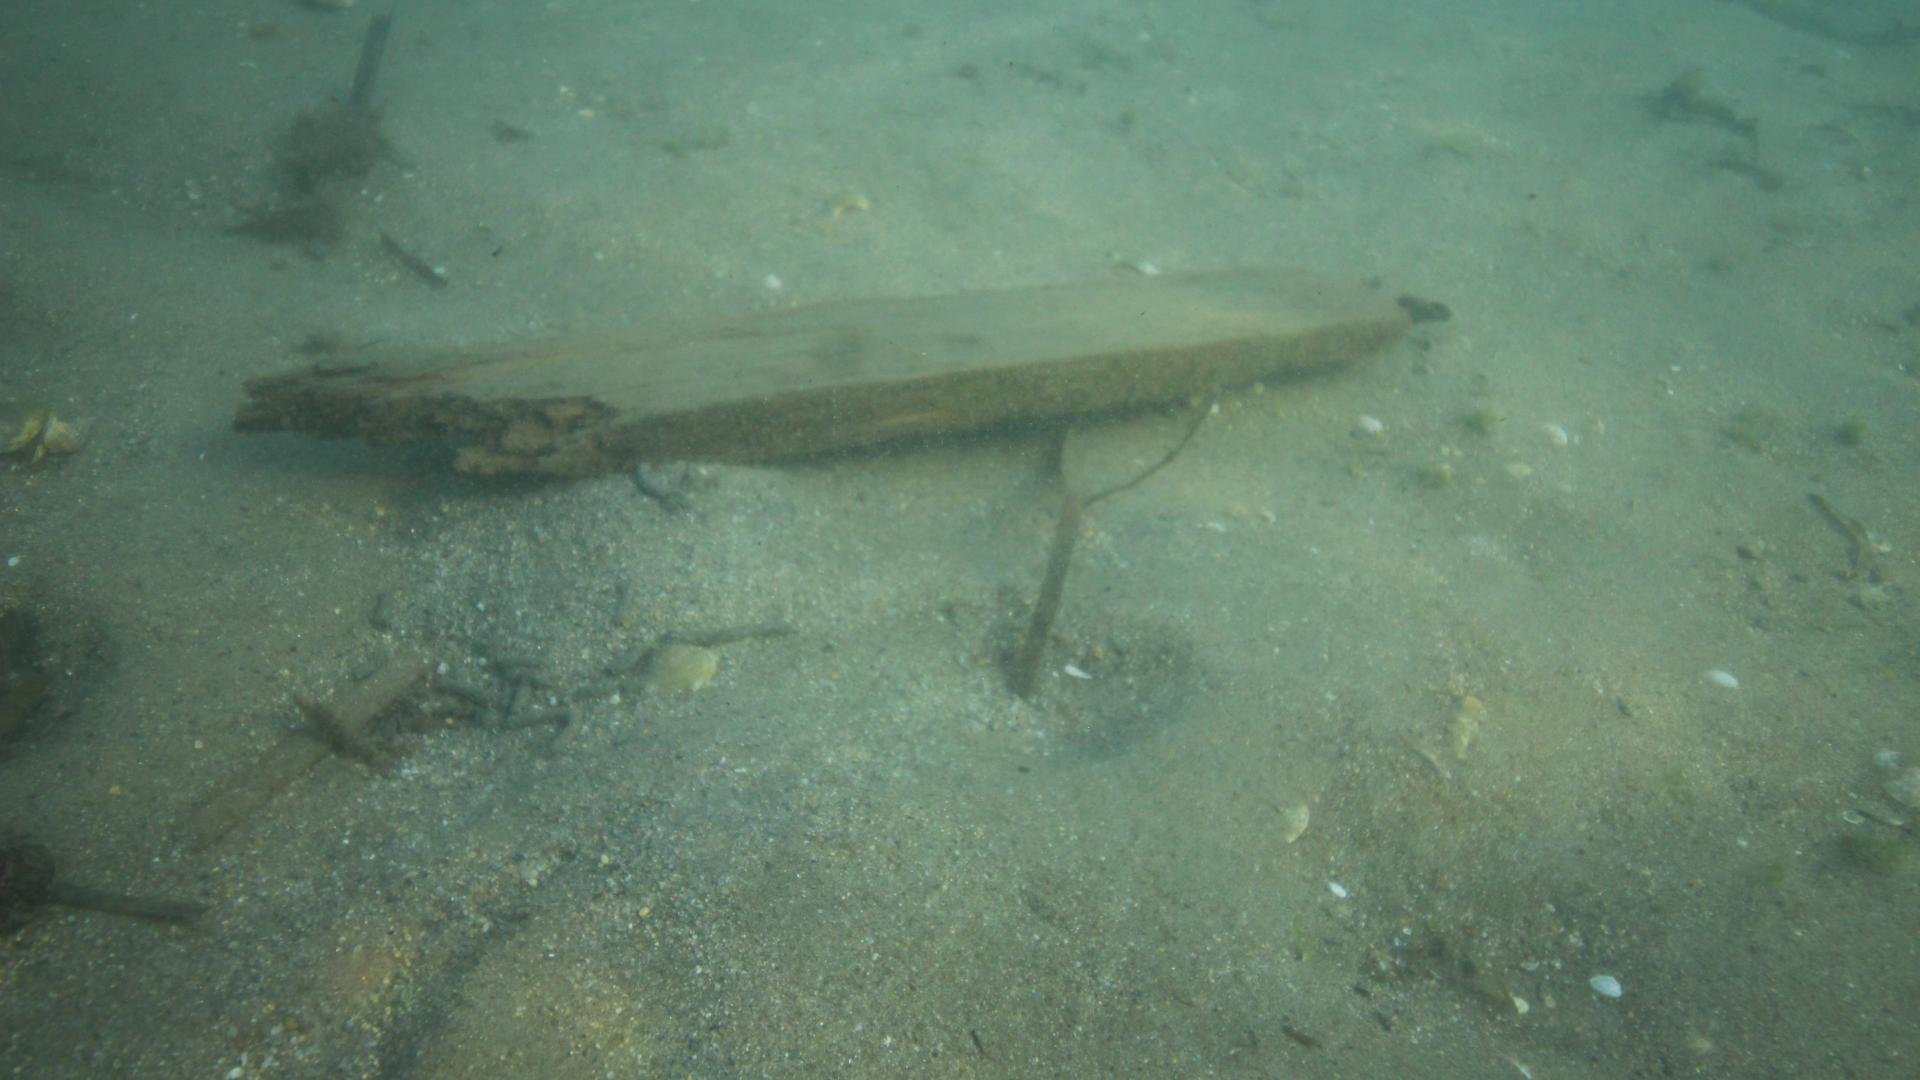wood: (232, 262, 1414, 479)
